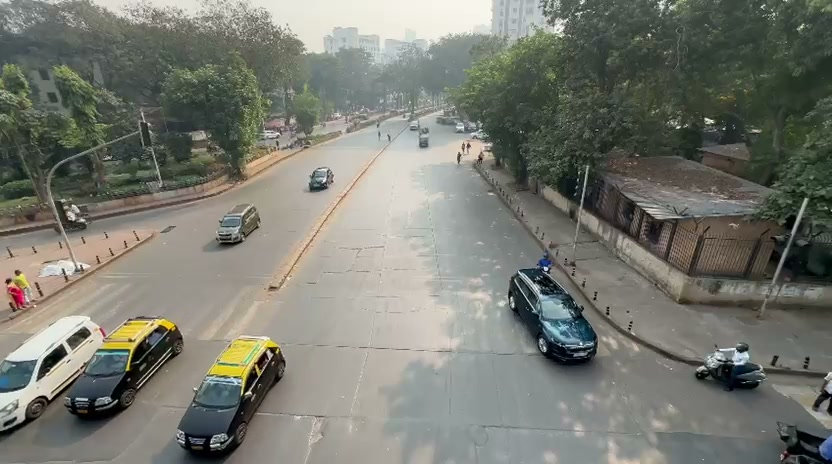car: (175, 335, 287, 455), (0, 314, 108, 434), (65, 316, 185, 419), (507, 266, 598, 364), (697, 352, 766, 391), (216, 203, 261, 244), (812, 371, 832, 414), (308, 167, 335, 191)
pedestrian: (6, 280, 25, 312)
